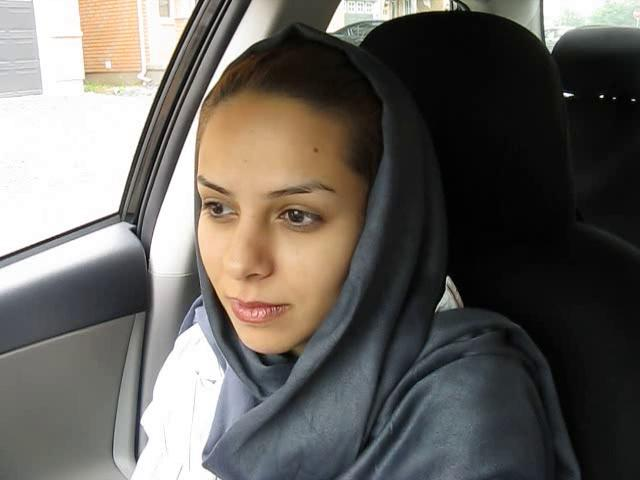no_yawn: (212, 281, 307, 332)
open_eyeL: (191, 185, 246, 230)
open_eyeR: (265, 191, 336, 239)
